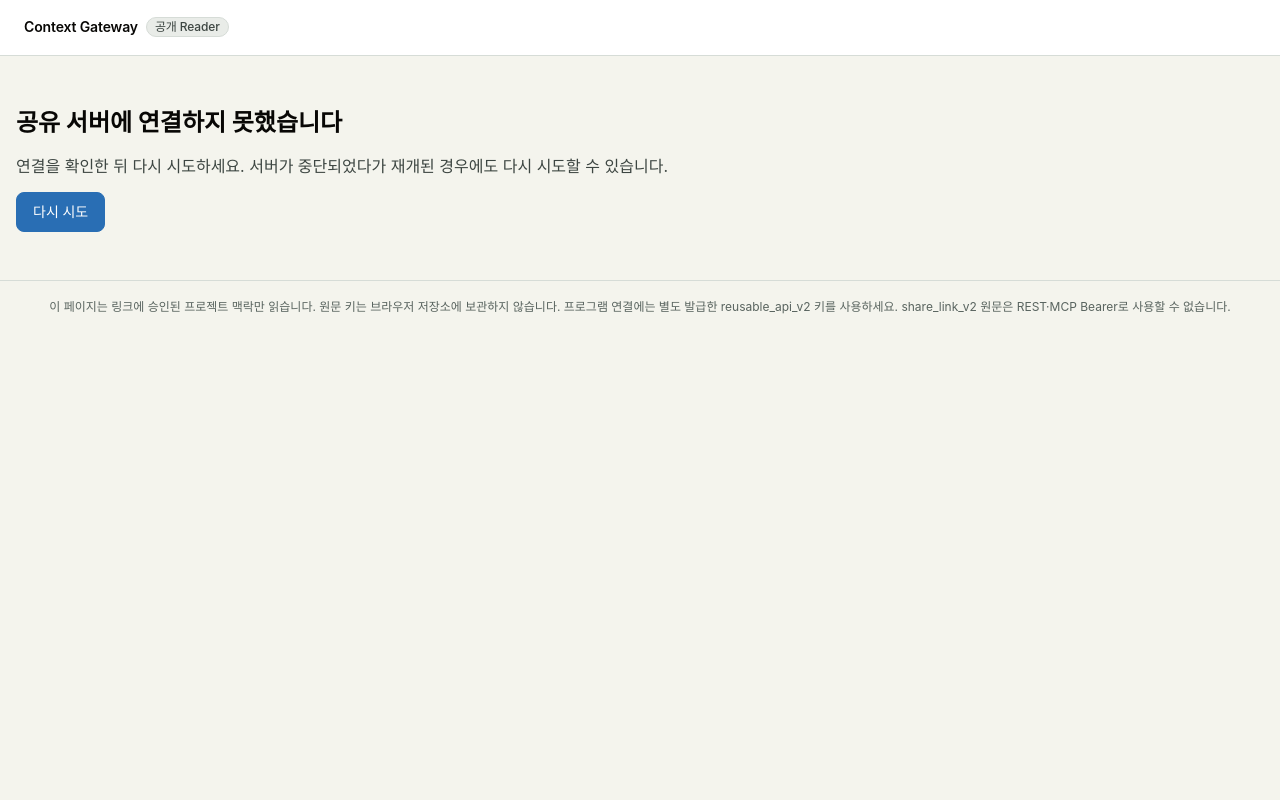
it: 공개 Reader 인증 경합 복구 › 구 exchange 뒤 현재 링크 교환 복구가 실패하면 어떤 링크 내용도 표시하지 않고 재시도를 제공한다
The width and height of the screenshot is (1280, 800).
Later steps or results of the test are not shown.
Expected: the message shows "공유 서버에 연결하지 못했습니다", [16,108,342,137]
Expected: the text "current body" is not shown
Click the button "다시 시도": (61,212) [16,192,105,232]
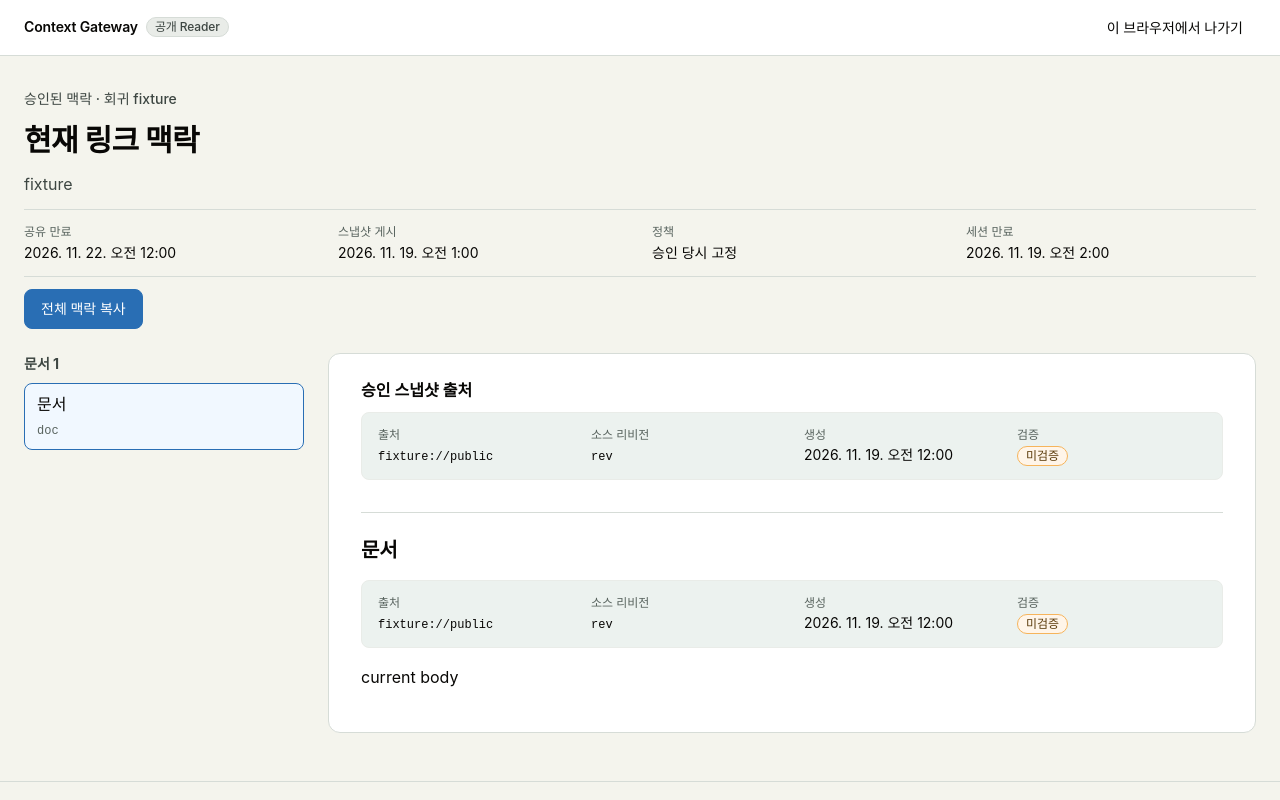
Now the heading "현재 링크 맥락" is shown, box [24,122,199,158]
